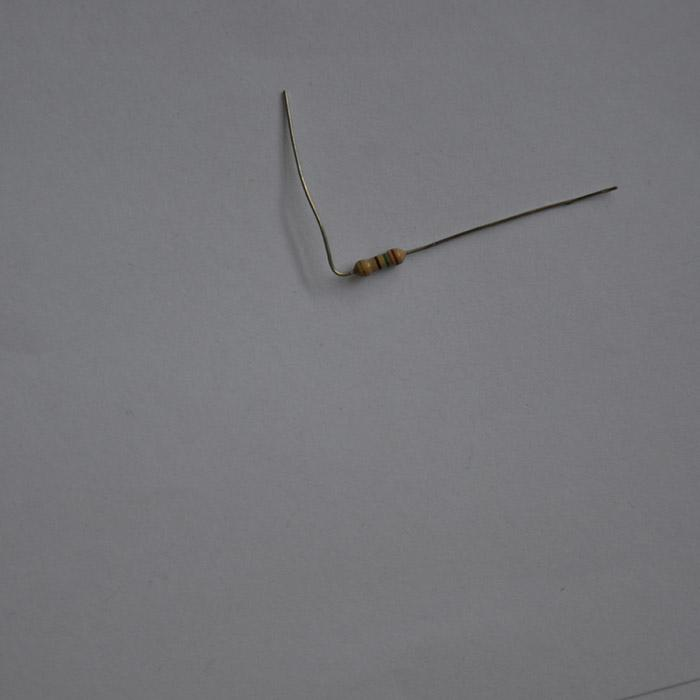resistor: (353, 247, 407, 275)
